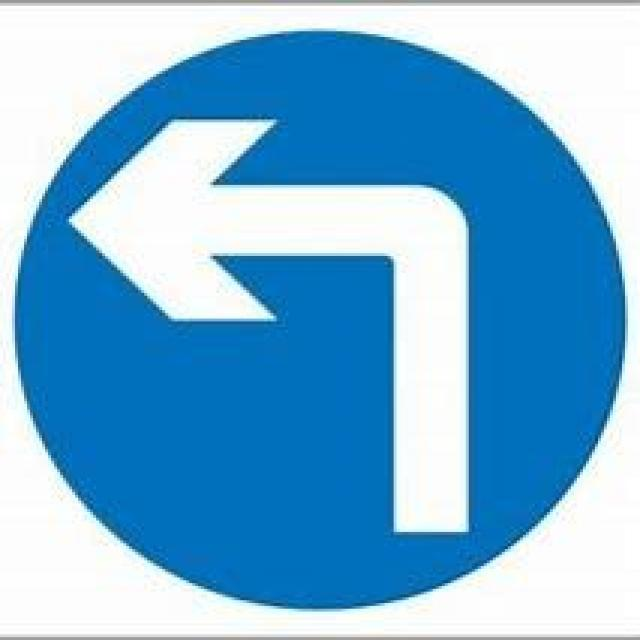compulsary turn left ahead: (11, 23, 628, 615)
